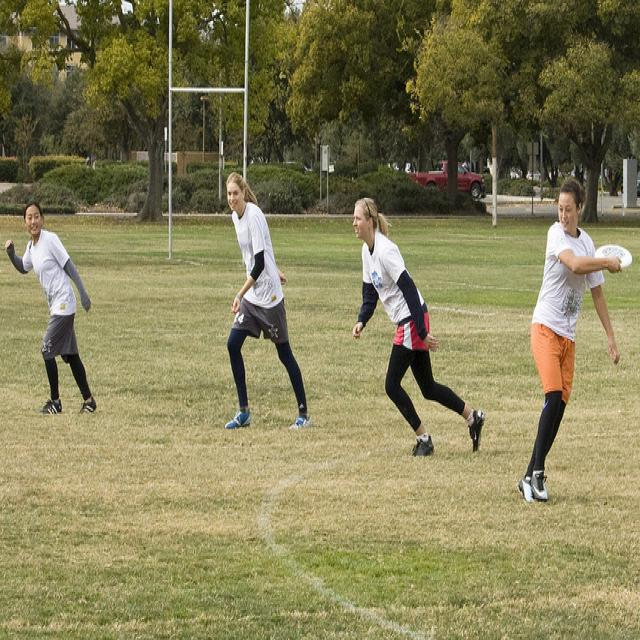Vehicle: (408, 160, 487, 203), (283, 160, 314, 171)
